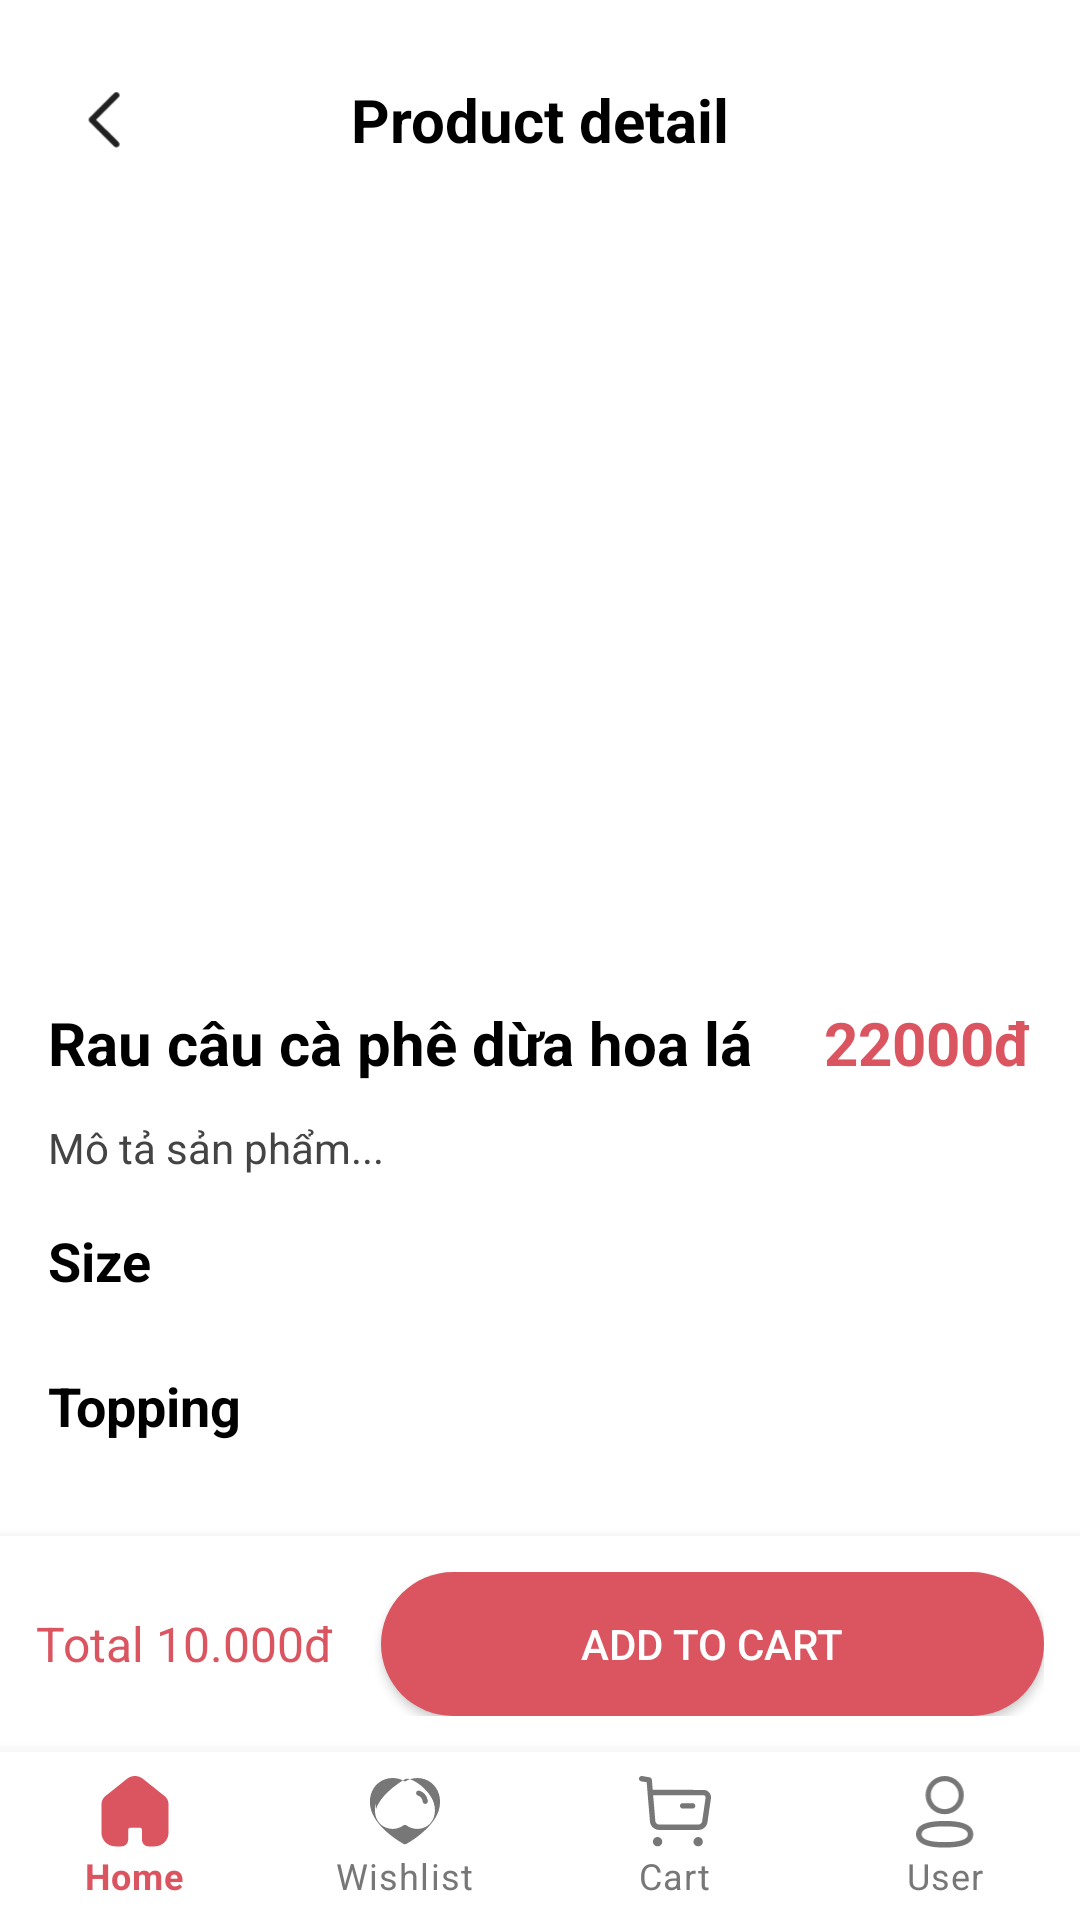

Where to tap for icons on this 1080×1920 app screen, as (x,y):
Back: (104,120)
